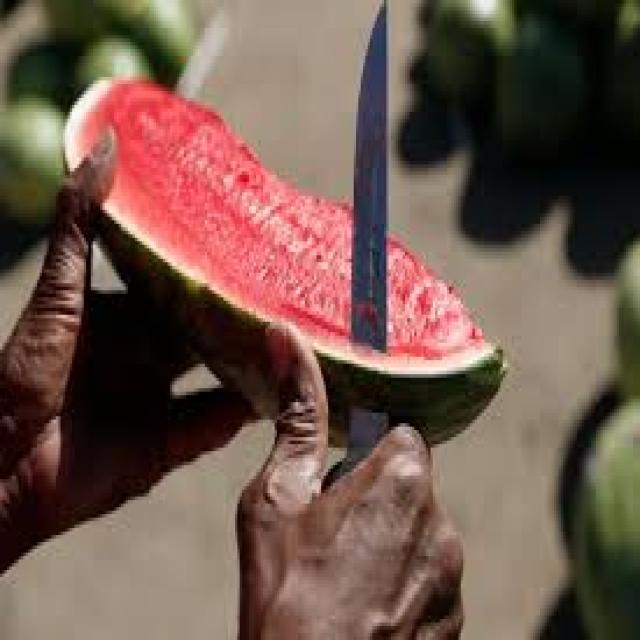watermelon: (60, 70, 508, 444)
